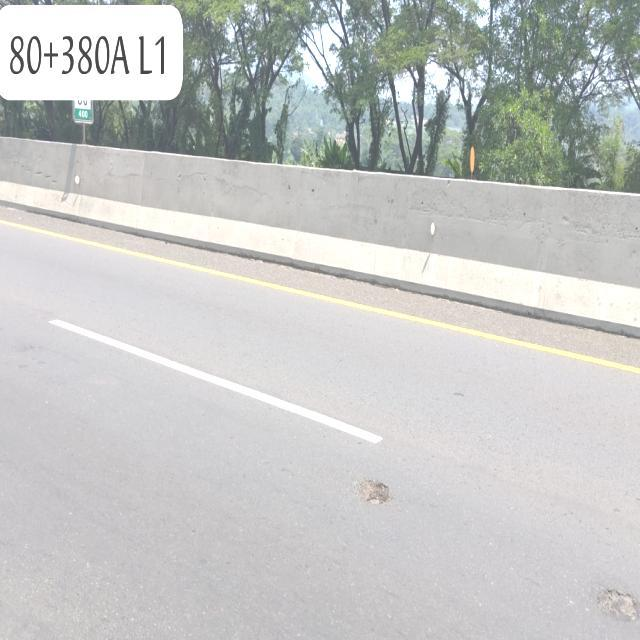Buraco: (593, 586, 639, 624), (358, 478, 392, 506)
